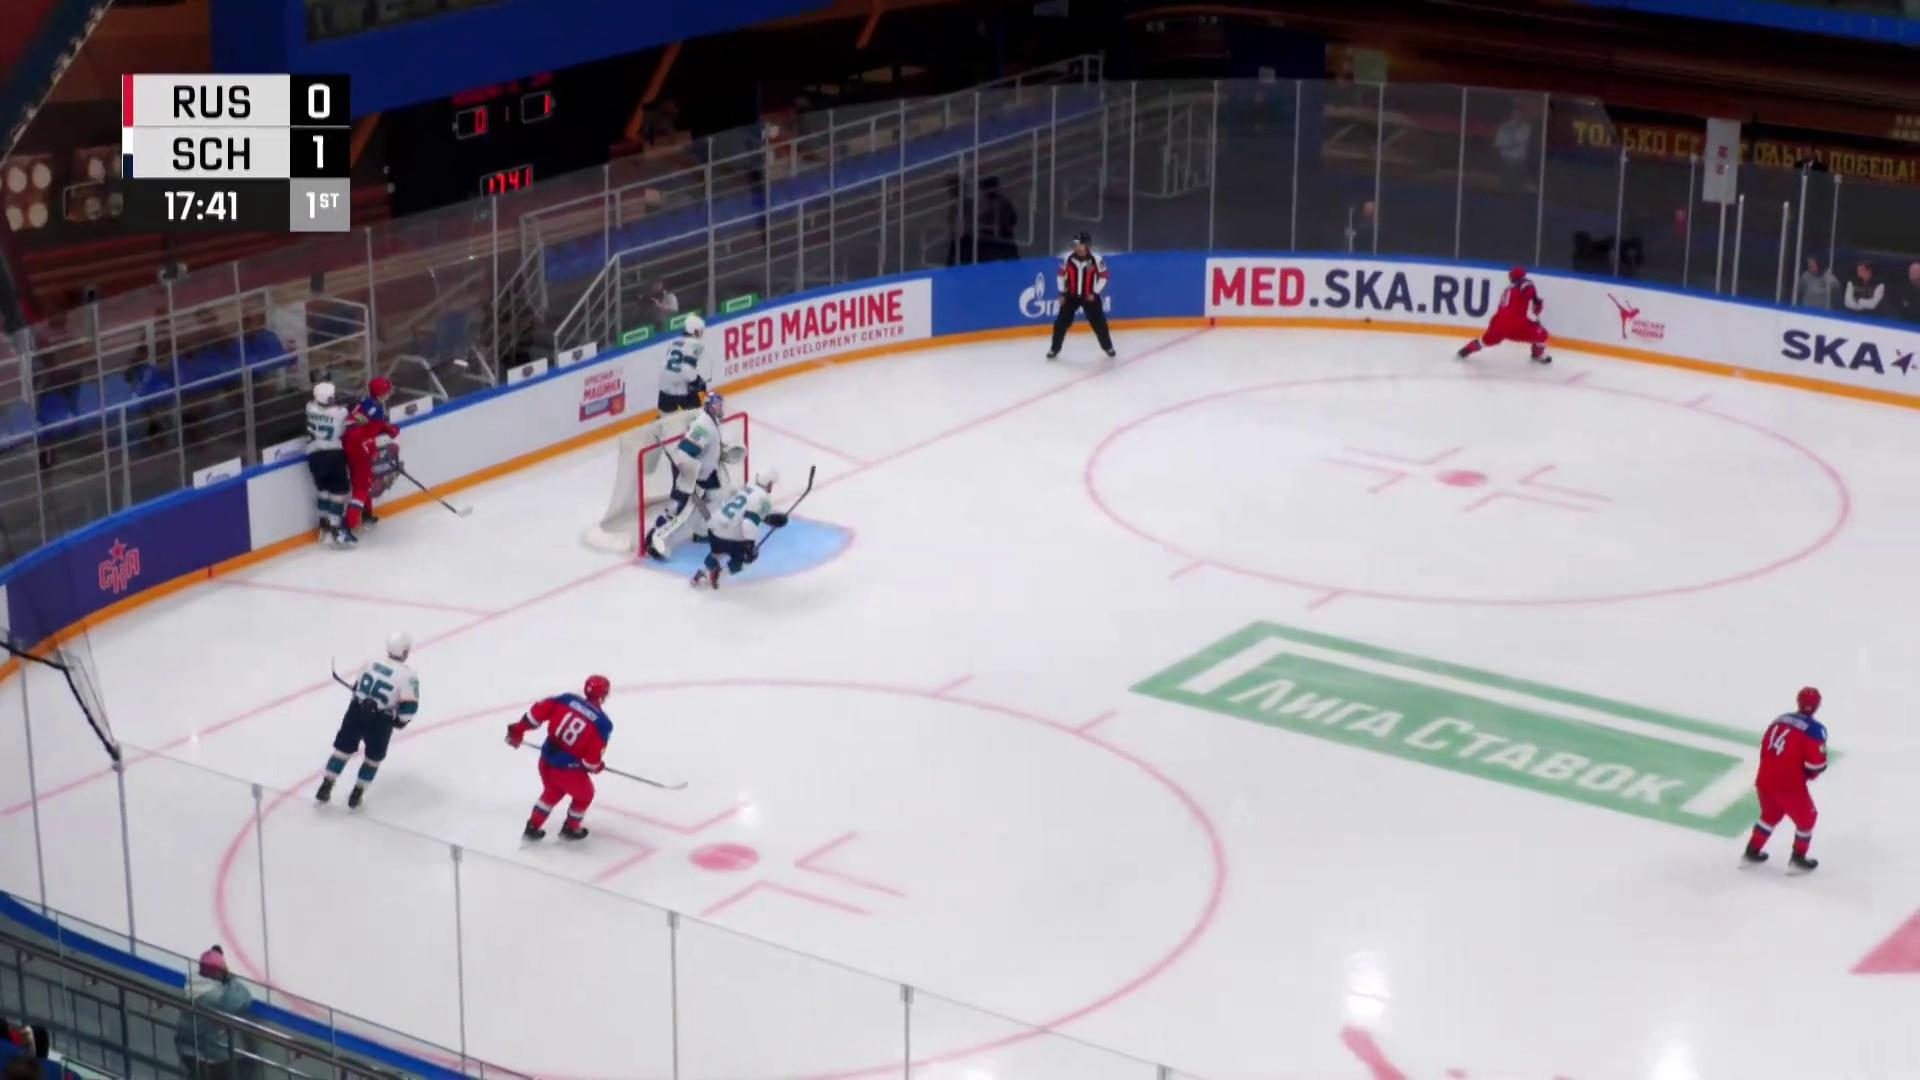ball: (1365, 316, 1373, 324)
